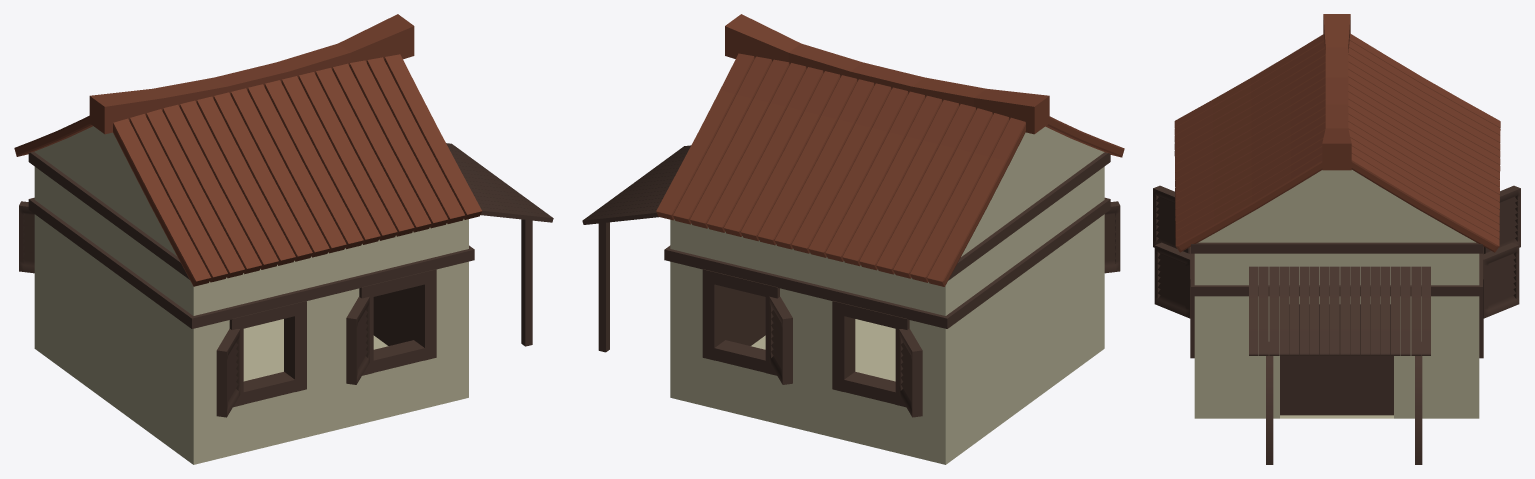
File: cabin.glb
3 views of the same model, side by side, from view 1: azimuth 30°, elevation 25°; view 2: azimuth 150°, elevation 25°; view 3: azimuth 270°, elevation 25° (orthographic). The views are drawn at different scales.
Visible parts, largest first — view 1: Cabin; view 2: Cabin; view 3: Cabin.
Boxes of the visible parts, box(x1,y1,x2,y2) form: Cabin: box(14, 14, 553, 464); Cabin: box(582, 14, 1124, 464); Cabin: box(1153, 14, 1520, 464).
Size of the model in its own units: 14.34 by 10.67 by 12.54.
